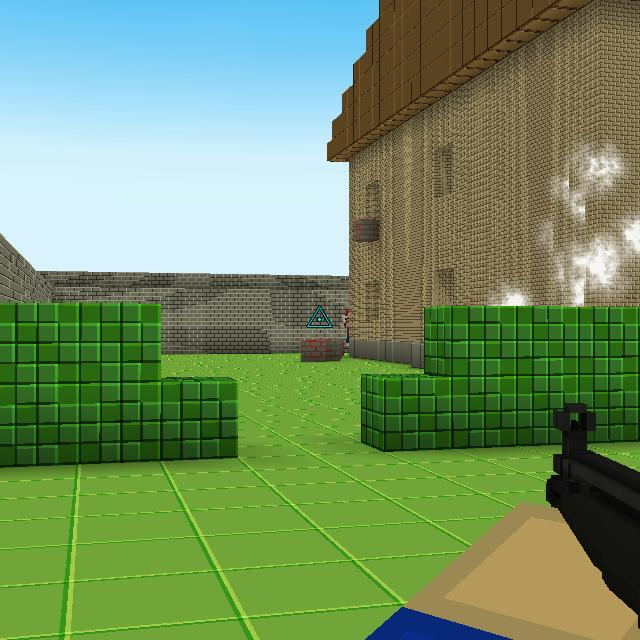enemy: (339, 308, 351, 343)
